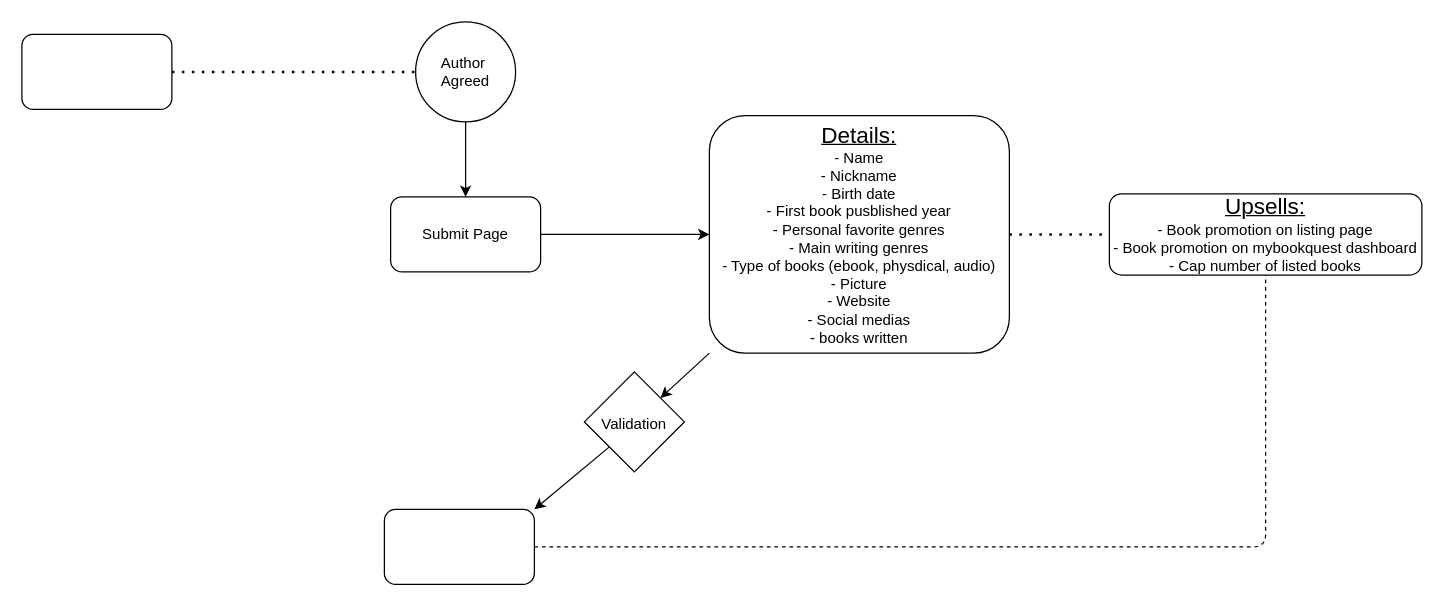
Image size: 1444x606. Some labels were removed from this diagram. The box of each missing label's shape, as (x1, y1, x2, y2) in pixels:
Listing Page: (383, 508, 534, 584)
Outreach to Small Authors: (21, 33, 172, 109)
